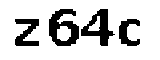4: (79, 5, 115, 48)
6: (47, 7, 80, 48)
c: (118, 16, 144, 48)
z: (10, 16, 43, 50)
